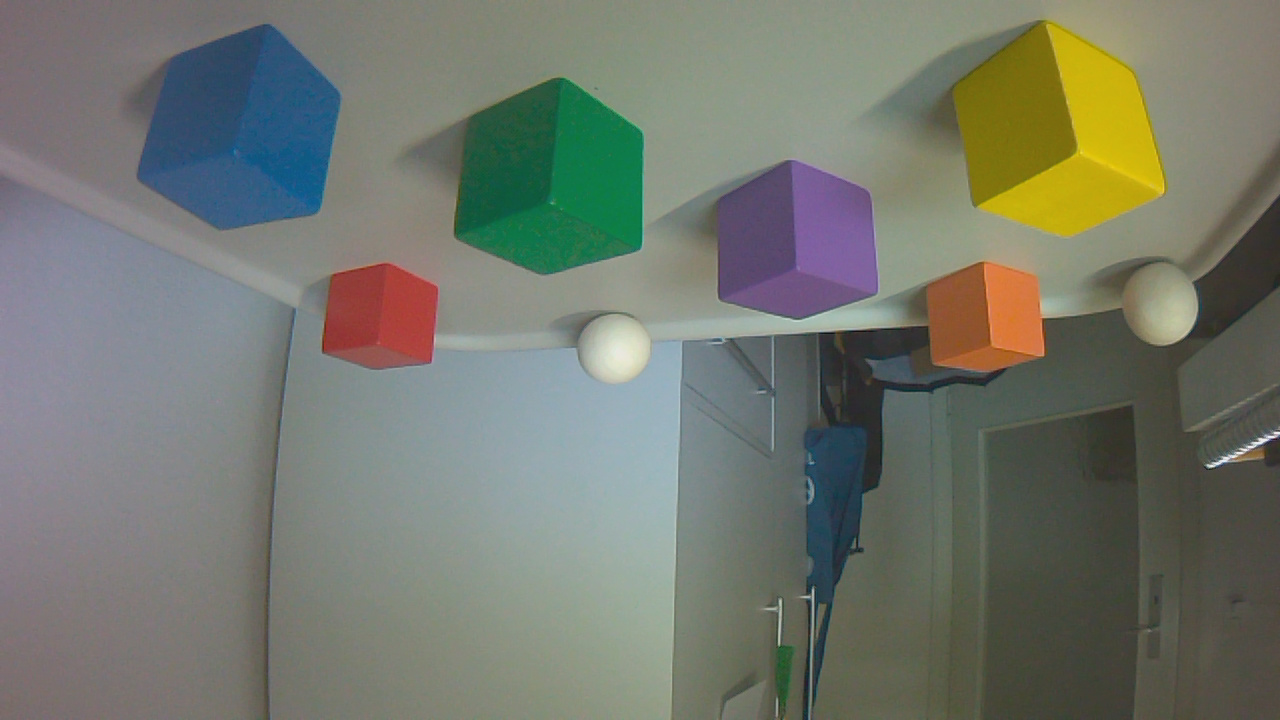ball: (1125, 264, 1205, 353), (580, 316, 658, 392)
cube_blue: (140, 27, 348, 237)
cube_green: (459, 79, 649, 283)
cube_orange: (928, 266, 1051, 380)
cube_purple: (720, 163, 885, 326)
cube_red: (324, 266, 446, 377)
cube_yellow: (953, 24, 1171, 246)
